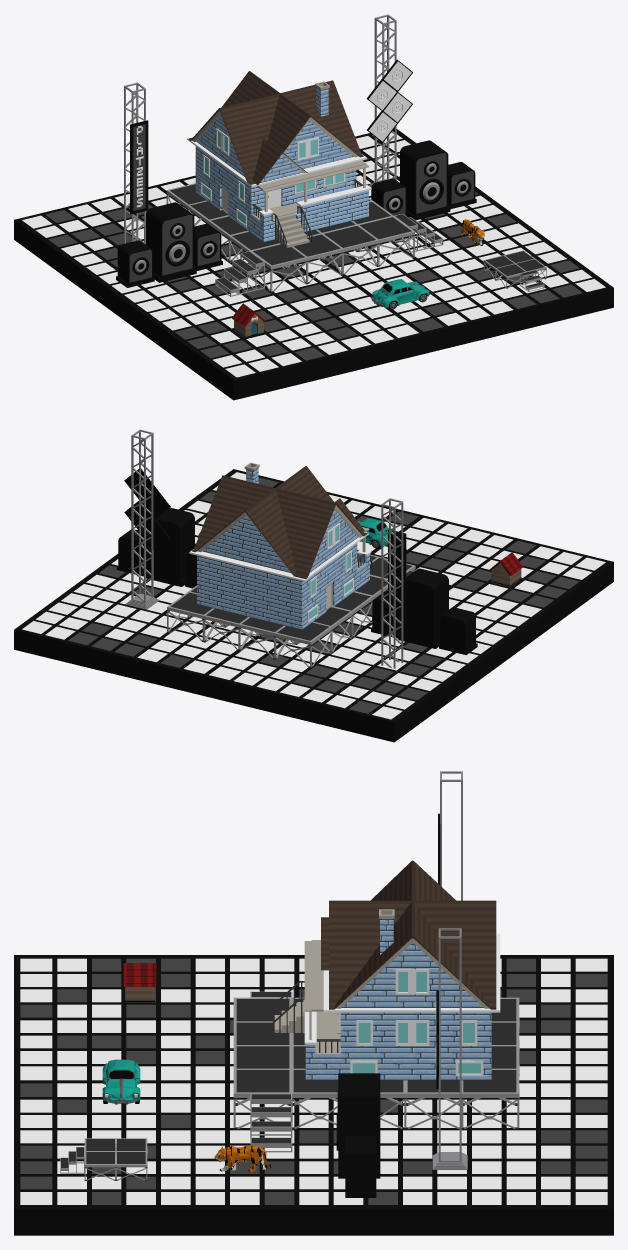
3 renders of one model, top to bottom at view 1: azimuth 30°, elevation 25°; view 2: azimuth 150°, elevation 25°; view 3: azimuth 270°, elevation 25°, orthographic. The views are drawn at different scales.
Visible parts, largest first — view 1: Cube.008, Cube.547, VEHICLES_VOLKSWAGEN, OBJRANDOM_DOGHOUSE; view 2: Cube.008, Cube.547, OBJRANDOM_DOGHOUSE, VEHICLES_VOLKSWAGEN; view 3: Cube.008, Cube.547, VEHICLES_VOLKSWAGEN, OBJRANDOM_DOGHOUSE, ANIMAL_TIGRE.
Boxes of the visible parts, bbox=[...] form: Cube.008: bbox=[14, 14, 613, 400]; Cube.547: bbox=[187, 71, 371, 248]; VEHICLES_VOLKSWAGEN: bbox=[371, 279, 429, 309]; OBJRANDOM_DOGHOUSE: bbox=[232, 303, 265, 337]; Cube.008: bbox=[14, 429, 613, 742]; Cube.547: bbox=[189, 462, 372, 629]; OBJRANDOM_DOGHOUSE: bbox=[489, 552, 523, 586]; VEHICLES_VOLKSWAGEN: bbox=[358, 518, 391, 548]; Cube.008: bbox=[14, 771, 613, 1235]; Cube.547: bbox=[272, 860, 500, 1080]; VEHICLES_VOLKSWAGEN: bbox=[102, 1059, 140, 1104]; OBJRANDOM_DOGHOUSE: bbox=[123, 963, 156, 1001]; ANIMAL_TIGRE: bbox=[214, 1145, 271, 1171].
Size of the model in its own units: 4000 by 1972 by 4000.
Materials: 46 (2 with a texture image).
